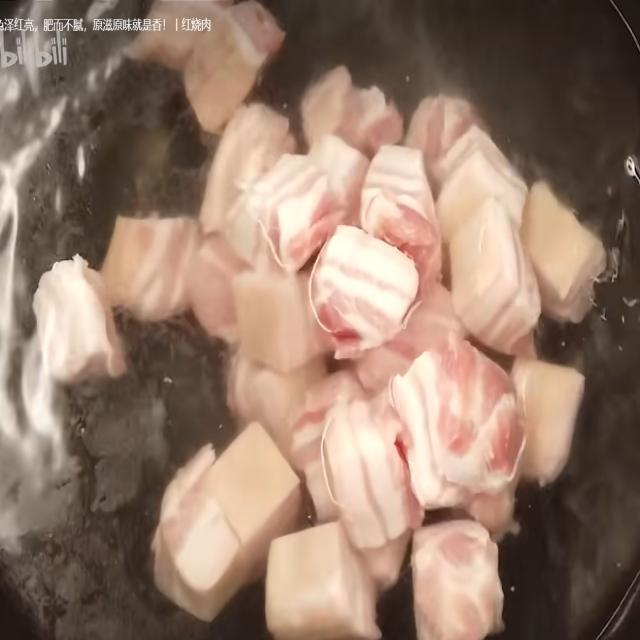pork: (321, 334, 526, 557), (156, 418, 301, 624), (309, 223, 420, 357), (449, 195, 538, 358), (181, 0, 284, 131), (224, 158, 339, 273), (34, 258, 126, 386), (358, 148, 442, 286), (412, 522, 501, 640), (104, 217, 199, 318)
